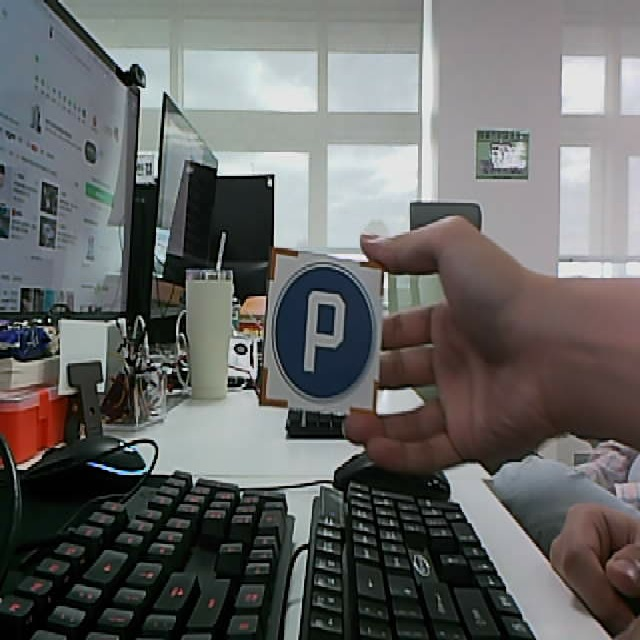parking: (258, 246, 387, 418)
